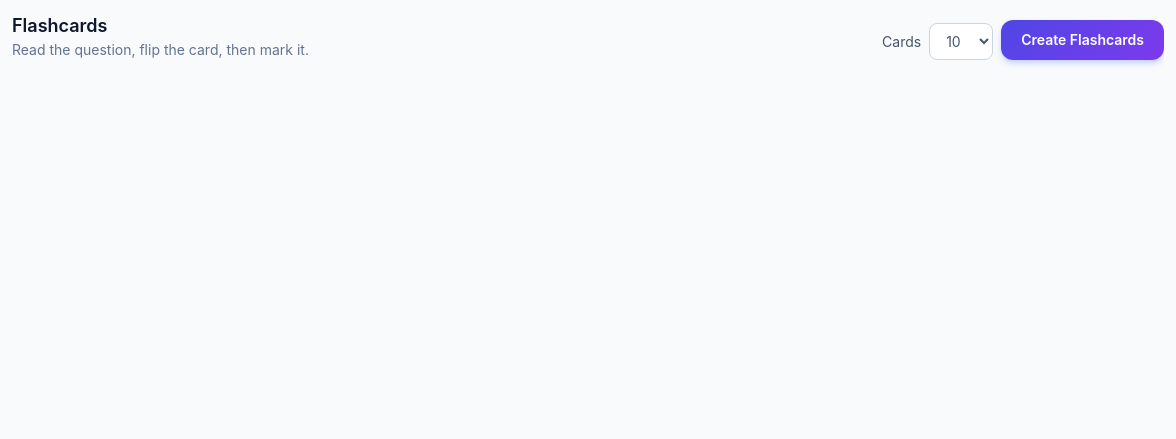
Test: FlashcardPanel › marks a card as Need Practice
Click the button "Create Flashcards" at (1083, 40), box [1001, 20, 1164, 60]
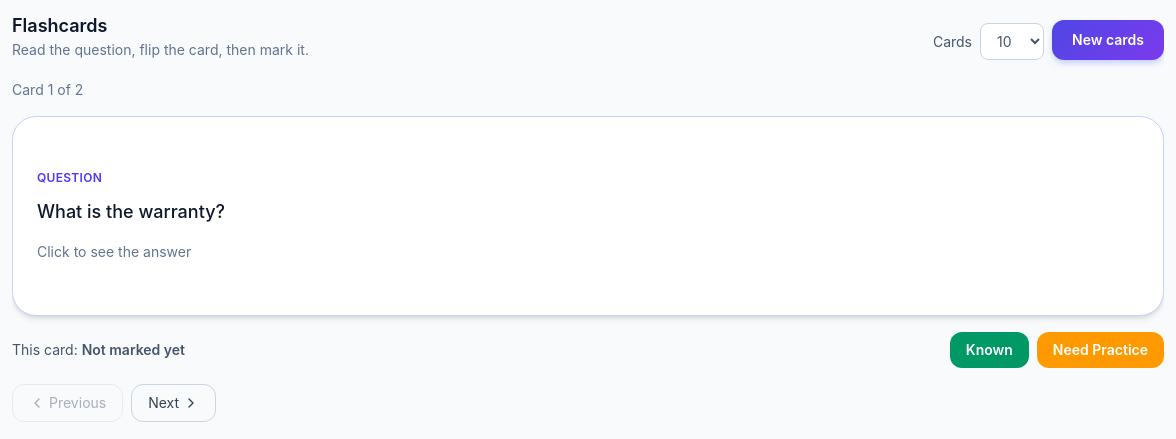
Result: the text "What is the warranty?" is shown at [37, 198, 225, 226]
Click the button "Need Practice" at (1100, 350), box [1037, 332, 1164, 368]
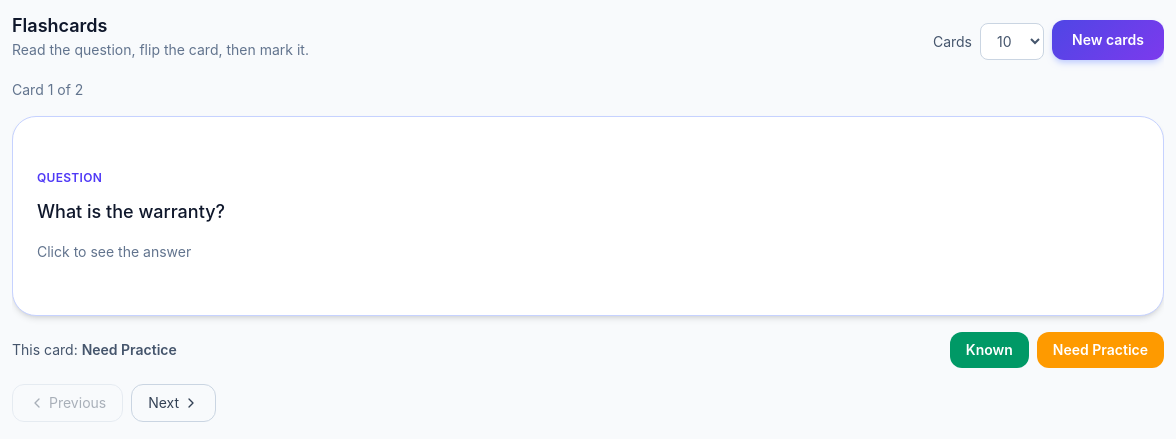
Result: the text with test id "card-status" reads "Need Practice" at [82, 341, 177, 358]
